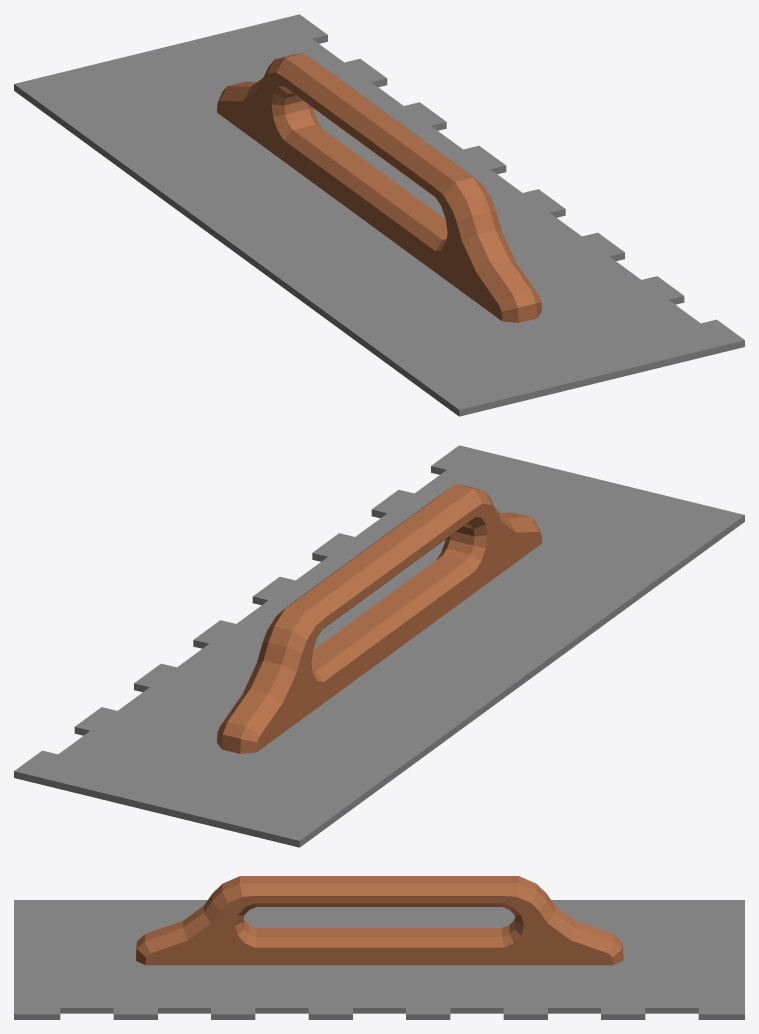
The picture shows the model from 3 angles, top to bottom: view 1: azimuth 30°, elevation 25°; view 2: azimuth 150°, elevation 25°; view 3: azimuth 270°, elevation 25°; orthographic projection. The views are drawn at different scales.
Parts seen in each view (by area): view 1: Kelle Groß; view 2: Kelle Groß; view 3: Kelle Groß.
Boxes of the visible parts, bbox=[...] form: Kelle Groß: bbox=[14, 14, 744, 416]; Kelle Groß: bbox=[14, 445, 744, 847]; Kelle Groß: bbox=[14, 876, 744, 1019].
Size of the model in its own units: 0.1944 by 0.0658 by 0.5248.
